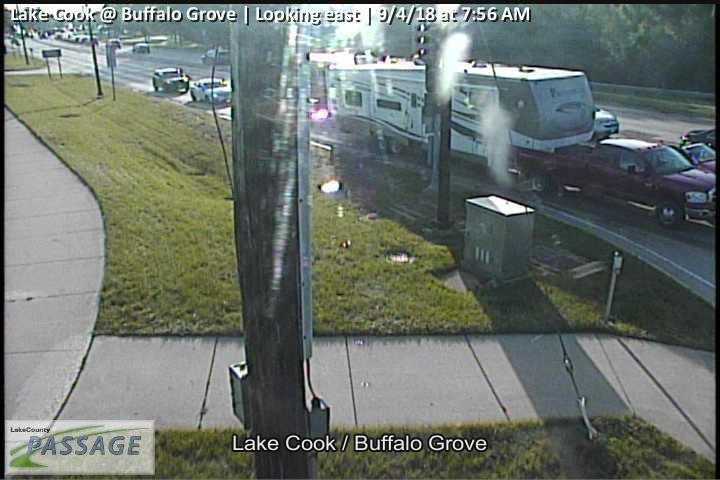Bus: (323, 59, 596, 191)
SUV: (593, 138, 718, 227), (153, 67, 189, 93), (191, 79, 230, 103)
